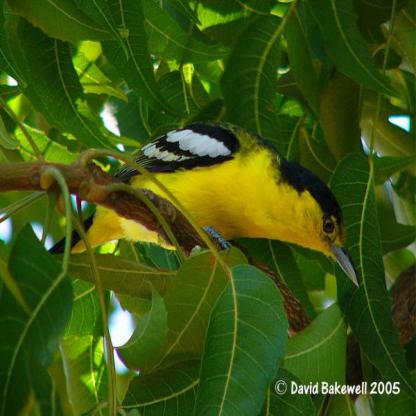Burung: (48, 118, 359, 288)
